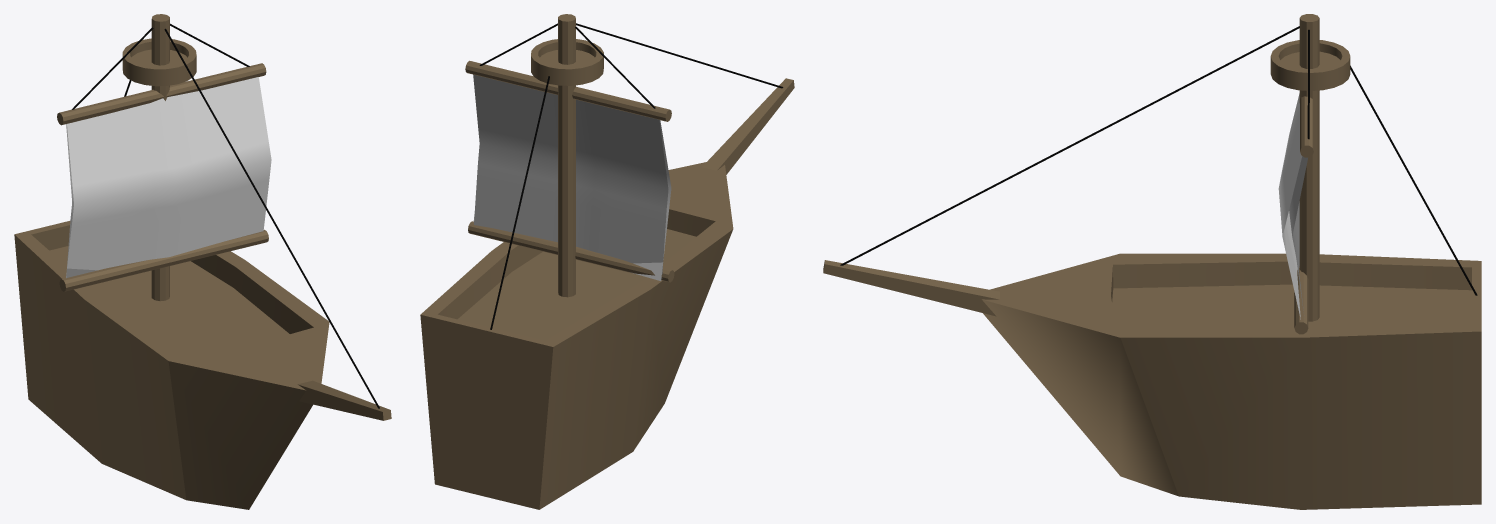
The model's file is PirateBoatV2.fbx.
3 renders of one model, left to right at view 1: azimuth 30°, elevation 25°; view 2: azimuth 150°, elevation 25°; view 3: azimuth 270°, elevation 25°, orthographic. The views are drawn at different scales.
Visible parts, largest first — view 1: pCube5; view 2: pCube5; view 3: pCube5.
Part boxes in pixels (x1,y1,x2,y2): pCube5: [14, 14, 391, 509]; pCube5: [420, 14, 794, 509]; pCube5: [823, 14, 1481, 509].
Size of the model in its own units: 1.26 by 2.54 by 3.3.
